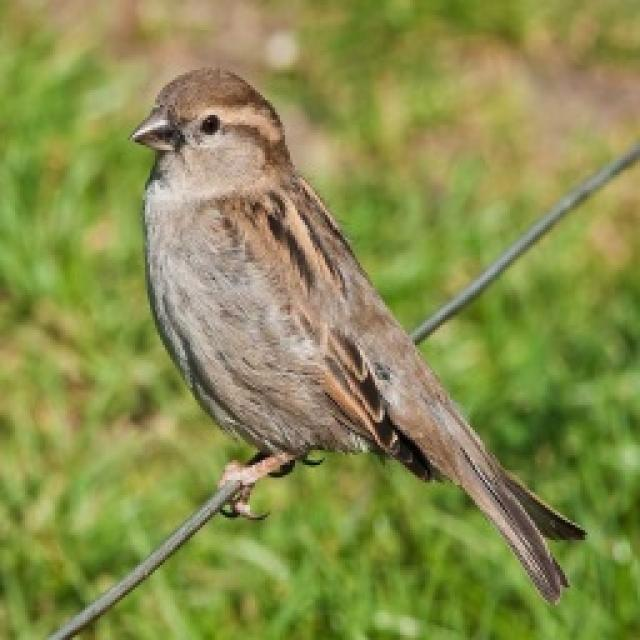sparrow: (125, 63, 587, 605)
